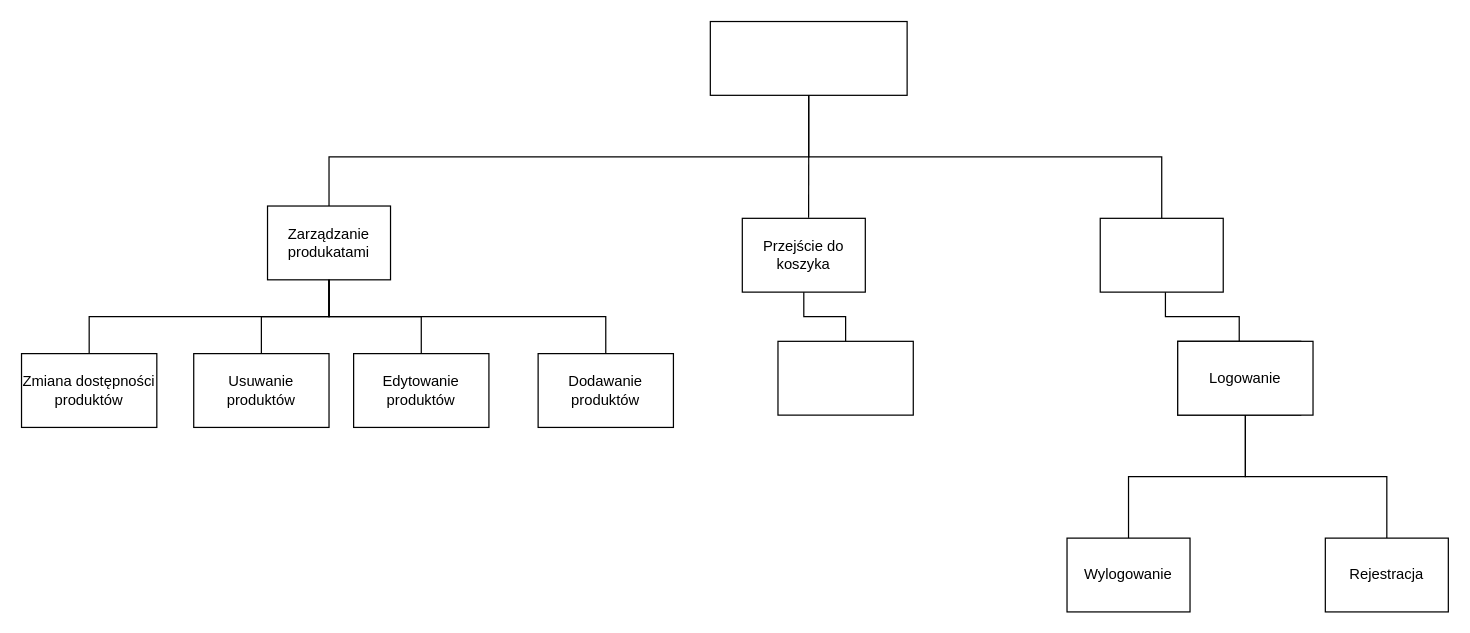
The diagram is 1470 pixels wide and 633 high, and some of its shapes have lost their labels. The centre of each missing label's shape, as x and y in pixels:
Identyfikacja użytkowników: point 1161,254
Robienie zakupów online: point 808,57
Złożenie zamówienia: point 845,377
